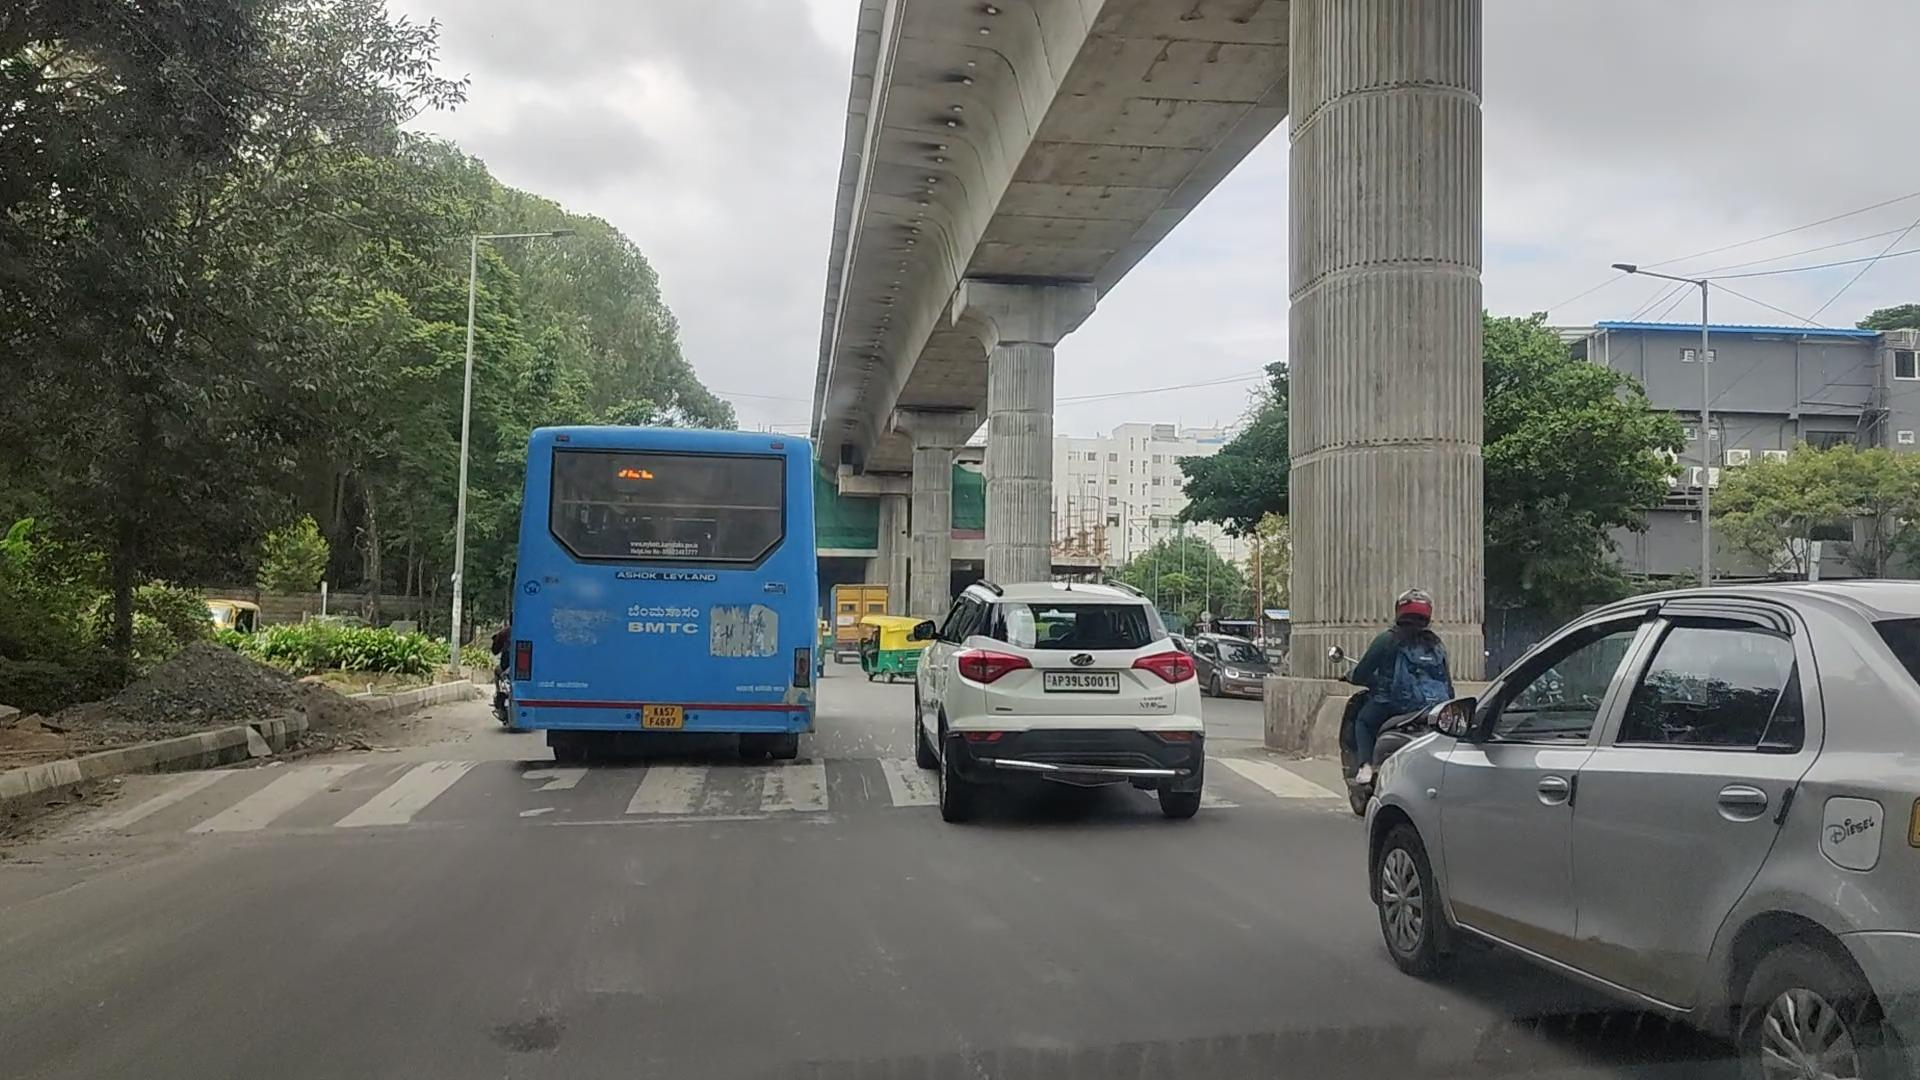LMV: (508, 421, 818, 758), (913, 578, 1201, 825)
SpeedBump: (94, 744, 919, 847)
